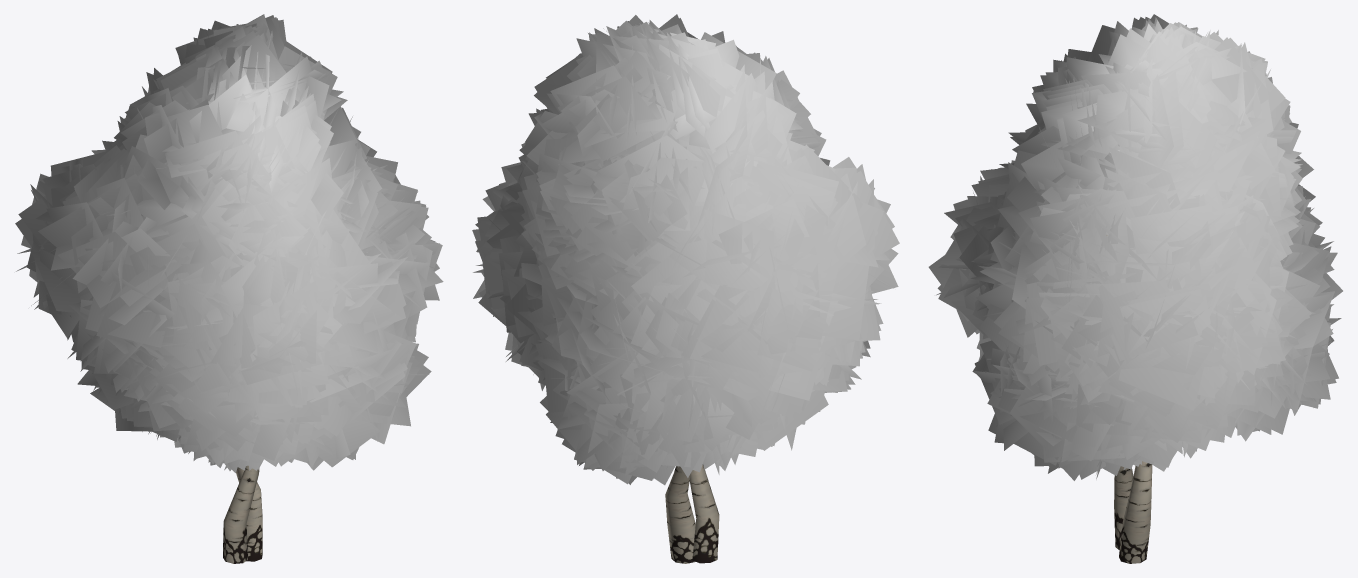
The model's file is SM_RPGTree_02.fbx.
3 views of the same model, side by side, from view 1: azimuth 30°, elevation 25°; view 2: azimuth 150°, elevation 25°; view 3: azimuth 270°, elevation 25° (orthographic). The views are drawn at different scales.
Visible parts, largest first — view 1: RPGT_Tree_02_LOD0; view 2: RPGT_Tree_02_LOD0; view 3: RPGT_Tree_02_LOD0.
Part boxes in pixels (left/top/right/bottom): RPGT_Tree_02_LOD0: left=15, top=14, right=443, bottom=563; RPGT_Tree_02_LOD0: left=472, top=14, right=899, bottom=563; RPGT_Tree_02_LOD0: left=928, top=14, right=1342, bottom=563.
Size of what is drawn, in the model's own units: 110 by 144 by 100.
